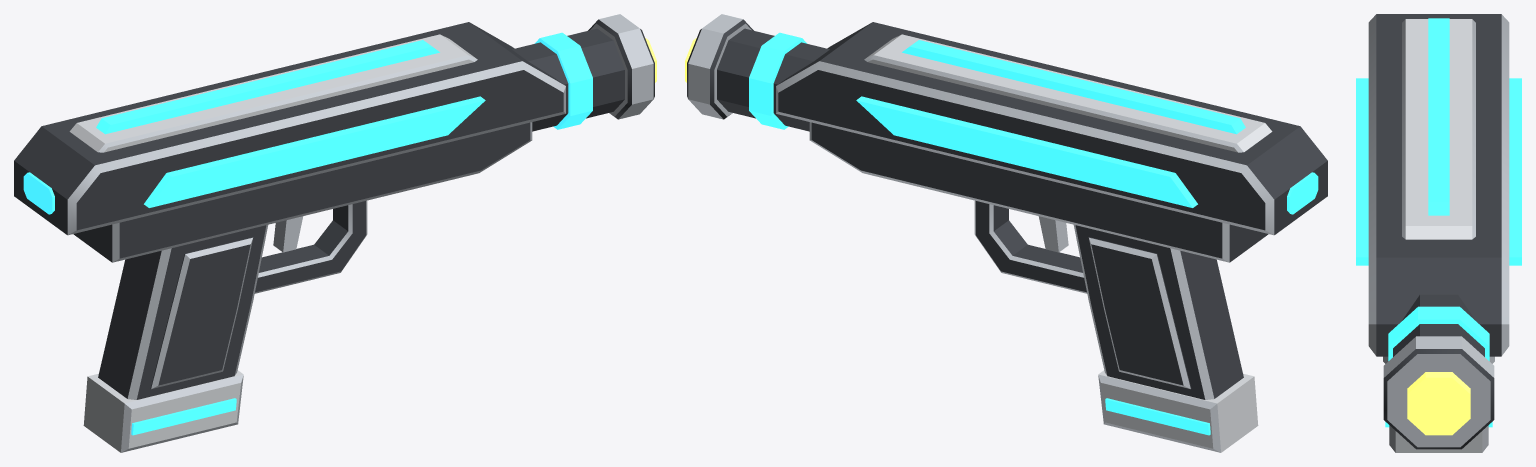
Rendered from SM_MRPistol.glb.
The picture shows the model from 3 angles, left to right: view 1: azimuth 30°, elevation 25°; view 2: azimuth 150°, elevation 25°; view 3: azimuth 270°, elevation 25°; orthographic projection. The views are drawn at different scales.
Parts seen in each view (by area): view 1: SM_MRPistol; view 2: SM_MRPistol; view 3: SM_MRPistol.
Part boxes in pixels (left/top/right/bottom): SM_MRPistol: left=14, top=14, right=656, bottom=452; SM_MRPistol: left=685, top=14, right=1327, bottom=452; SM_MRPistol: left=1356, top=14, right=1521, bottom=452.
Size of the model in its own units: 0.32 by 0.16 by 0.065.
